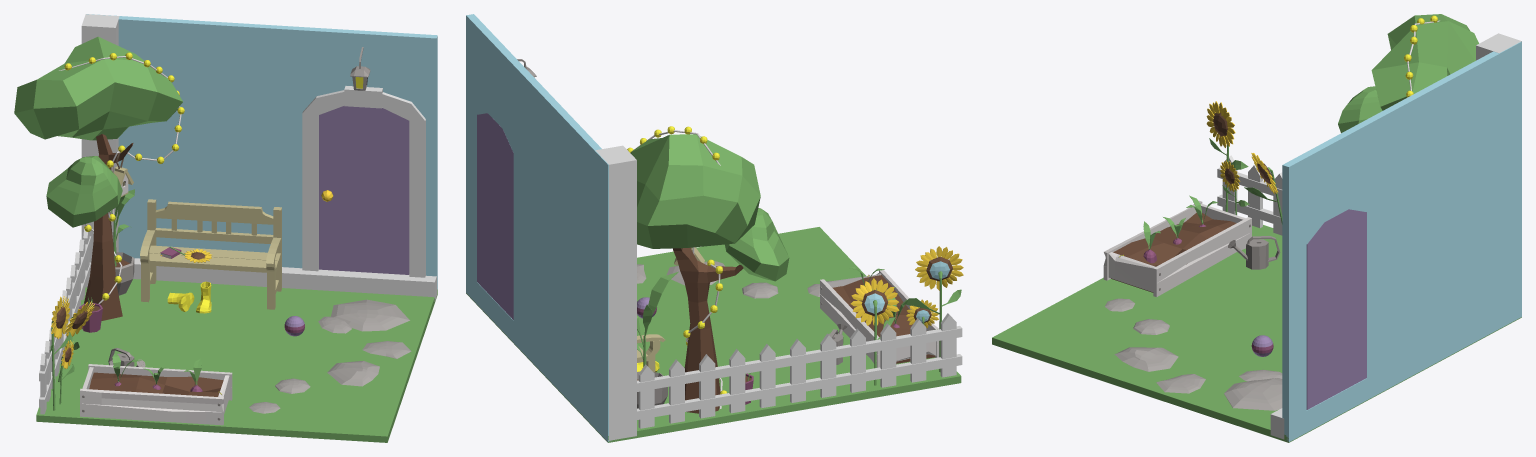
Rendered from house.gltf.
The picture shows the model from 3 angles, left to right: view 1: azimuth 30°, elevation 25°; view 2: azimuth 150°, elevation 25°; view 3: azimuth 270°, elevation 25°; orthographic projection. The views are drawn at different scales.
Visible parts, largest first — view 1: Backyard_Walls, Backyard_Tree, Backyard_Door, Backyard_Planks, Backyard_Garden, Backyard_Bench, Backyard_Stones, Backyard_Fence, Backyard_Sunflowers, Backyard, Backyard_Lights, Backyard_Boots (+1 smaller); view 2: Backyard_Walls, Backyard_Tree, Backyard_Fence, Backyard_Planks, Backyard_Door, Backyard_Sunflowers, Backyard_Garden, Backyard, Backyard_Stones, Backyard_Lights, Backyard_Bench; view 3: Backyard_Walls, Backyard_Door, Backyard_Garden, Backyard_Tree, Backyard_Stones, Backyard_Sunflowers, Backyard_Fence, Backyard_Planks, Backyard_Watering_Can.
Part boxes in pixels (<box>): Backyard_Walls: <box>36,14,437,442</box>; Backyard_Tree: <box>14,36,182,320</box>; Backyard_Door: <box>319,106,409,274</box>; Backyard_Planks: <box>81,14,436,301</box>; Backyard_Garden: <box>80,353,232,425</box>; Backyard_Bench: <box>140,199,281,309</box>; Backyard_Stones: <box>249,299,411,413</box>; Backyard_Fence: <box>39,228,91,414</box>; Backyard_Sunflowers: <box>50,246,211,410</box>; Backyard: <box>79,189,134,332</box>; Backyard_Lights: <box>59,52,184,304</box>; Backyard_Boots: <box>167,281,211,313</box>; Backyard_Walls: <box>466,14,961,442</box>; Backyard_Tree: <box>630,134,789,413</box>; Backyard_Fence: <box>637,313,962,428</box>; Backyard_Planks: <box>595,145,636,440</box>; Backyard_Door: <box>477,113,513,319</box>; Backyard_Sunflowers: <box>850,246,963,385</box>; Backyard_Garden: <box>820,267,939,367</box>; Backyard: <box>637,271,753,408</box>; Backyard_Stones: <box>637,261,819,298</box>; Backyard_Lights: <box>627,126,726,408</box>; Backyard_Bench: <box>637,334,665,372</box>; Backyard_Walls: <box>992,41,1521,442</box>; Backyard_Door: <box>1306,209,1366,409</box>; Backyard_Garden: <box>1103,195,1251,297</box>; Backyard_Tree: <box>1338,14,1478,132</box>; Backyard_Stones: <box>1105,298,1282,410</box>; Backyard_Sunflowers: <box>1206,101,1282,224</box>; Backyard_Fence: <box>1217,155,1282,235</box>; Backyard_Planks: <box>1270,33,1521,439</box>; Backyard_Watering_Can: <box>1228,236,1280,269</box>.
Size of the model in its own units: 7.02 by 4.16 by 7.02.
Materials: 1 (1 with a texture image).
